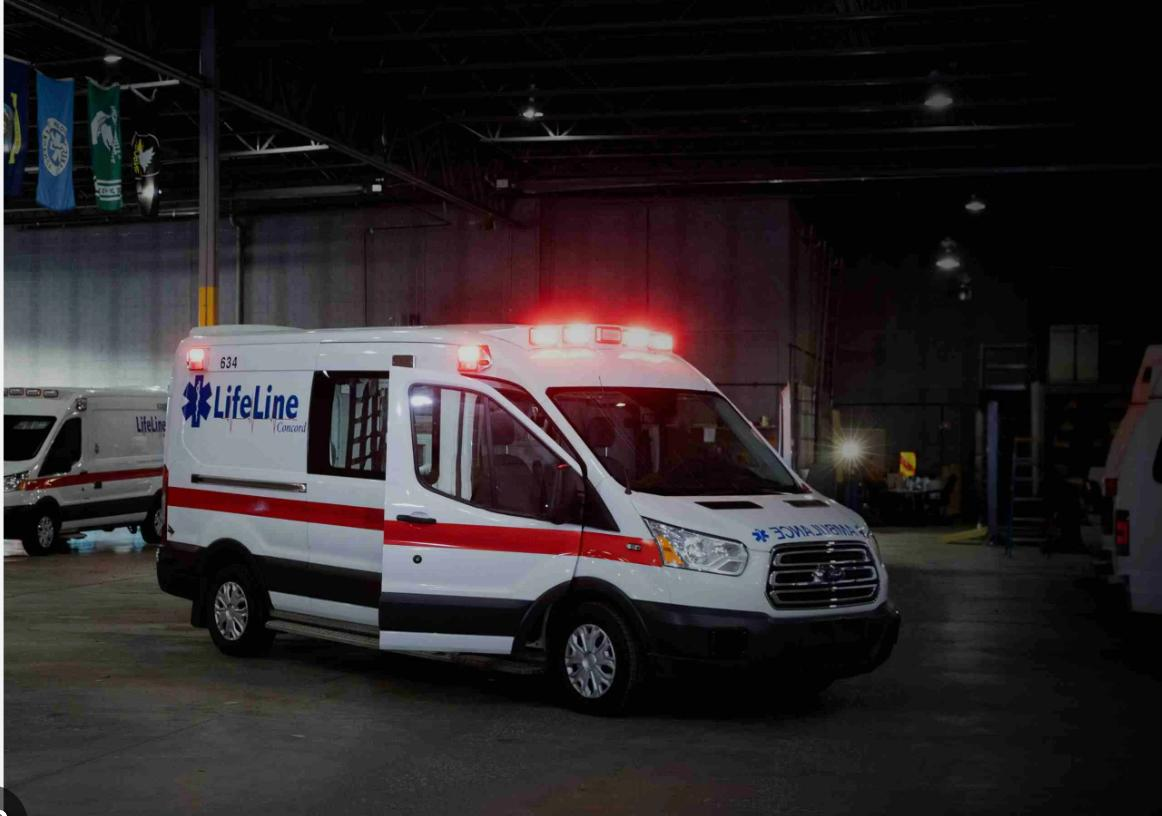ambulance_off: (4, 384, 164, 554)
ambulance_on: (159, 324, 905, 712)
